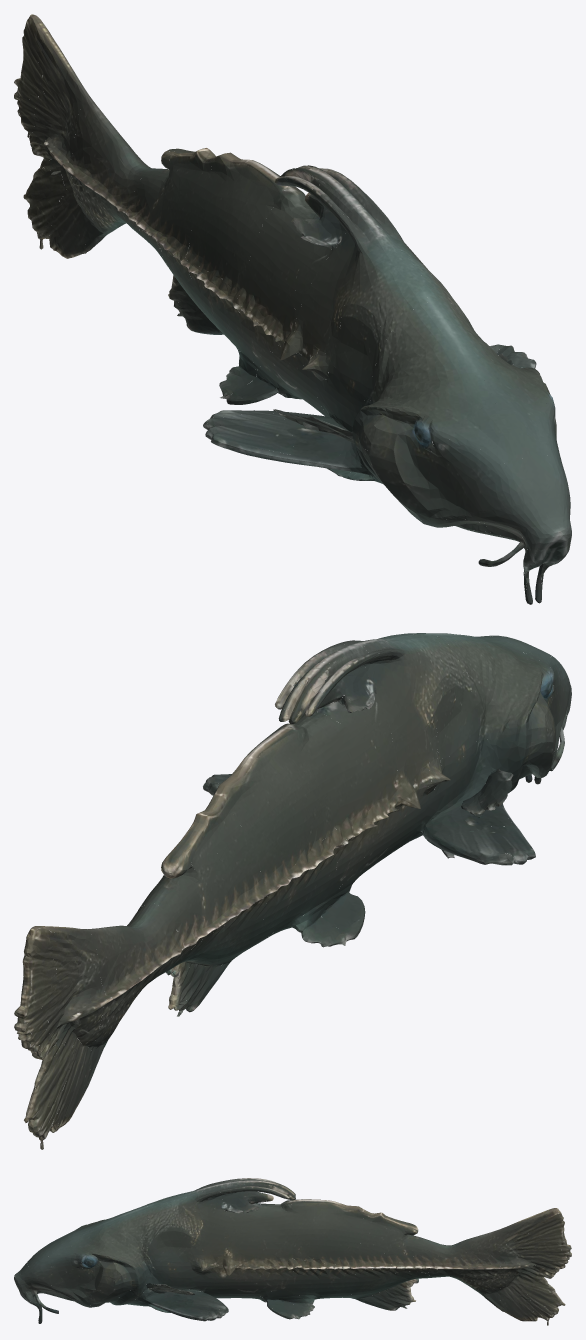
File: armado_chancho.glb
The picture shows the model from 3 angles, top to bottom: view 1: azimuth 30°, elevation 25°; view 2: azimuth 150°, elevation 25°; view 3: azimuth 270°, elevation 25°; orthographic projection. The views are drawn at different scales.
Parts seen in each view (by area): view 1: tripo_node_6c08d82a-2cc8-4d44-8eab-912298eca7a3; view 2: tripo_node_6c08d82a-2cc8-4d44-8eab-912298eca7a3; view 3: tripo_node_6c08d82a-2cc8-4d44-8eab-912298eca7a3.
Boxes of the visible parts, <box> form: tripo_node_6c08d82a-2cc8-4d44-8eab-912298eca7a3: <box>14,14,571,604</box>; tripo_node_6c08d82a-2cc8-4d44-8eab-912298eca7a3: <box>14,633,571,1149</box>; tripo_node_6c08d82a-2cc8-4d44-8eab-912298eca7a3: <box>14,1178,571,1325</box>.
Bounding box in the file's own units: 0.3467 × 0.2867 × 0.9999.
Materials: 1 (1 with a texture image).
